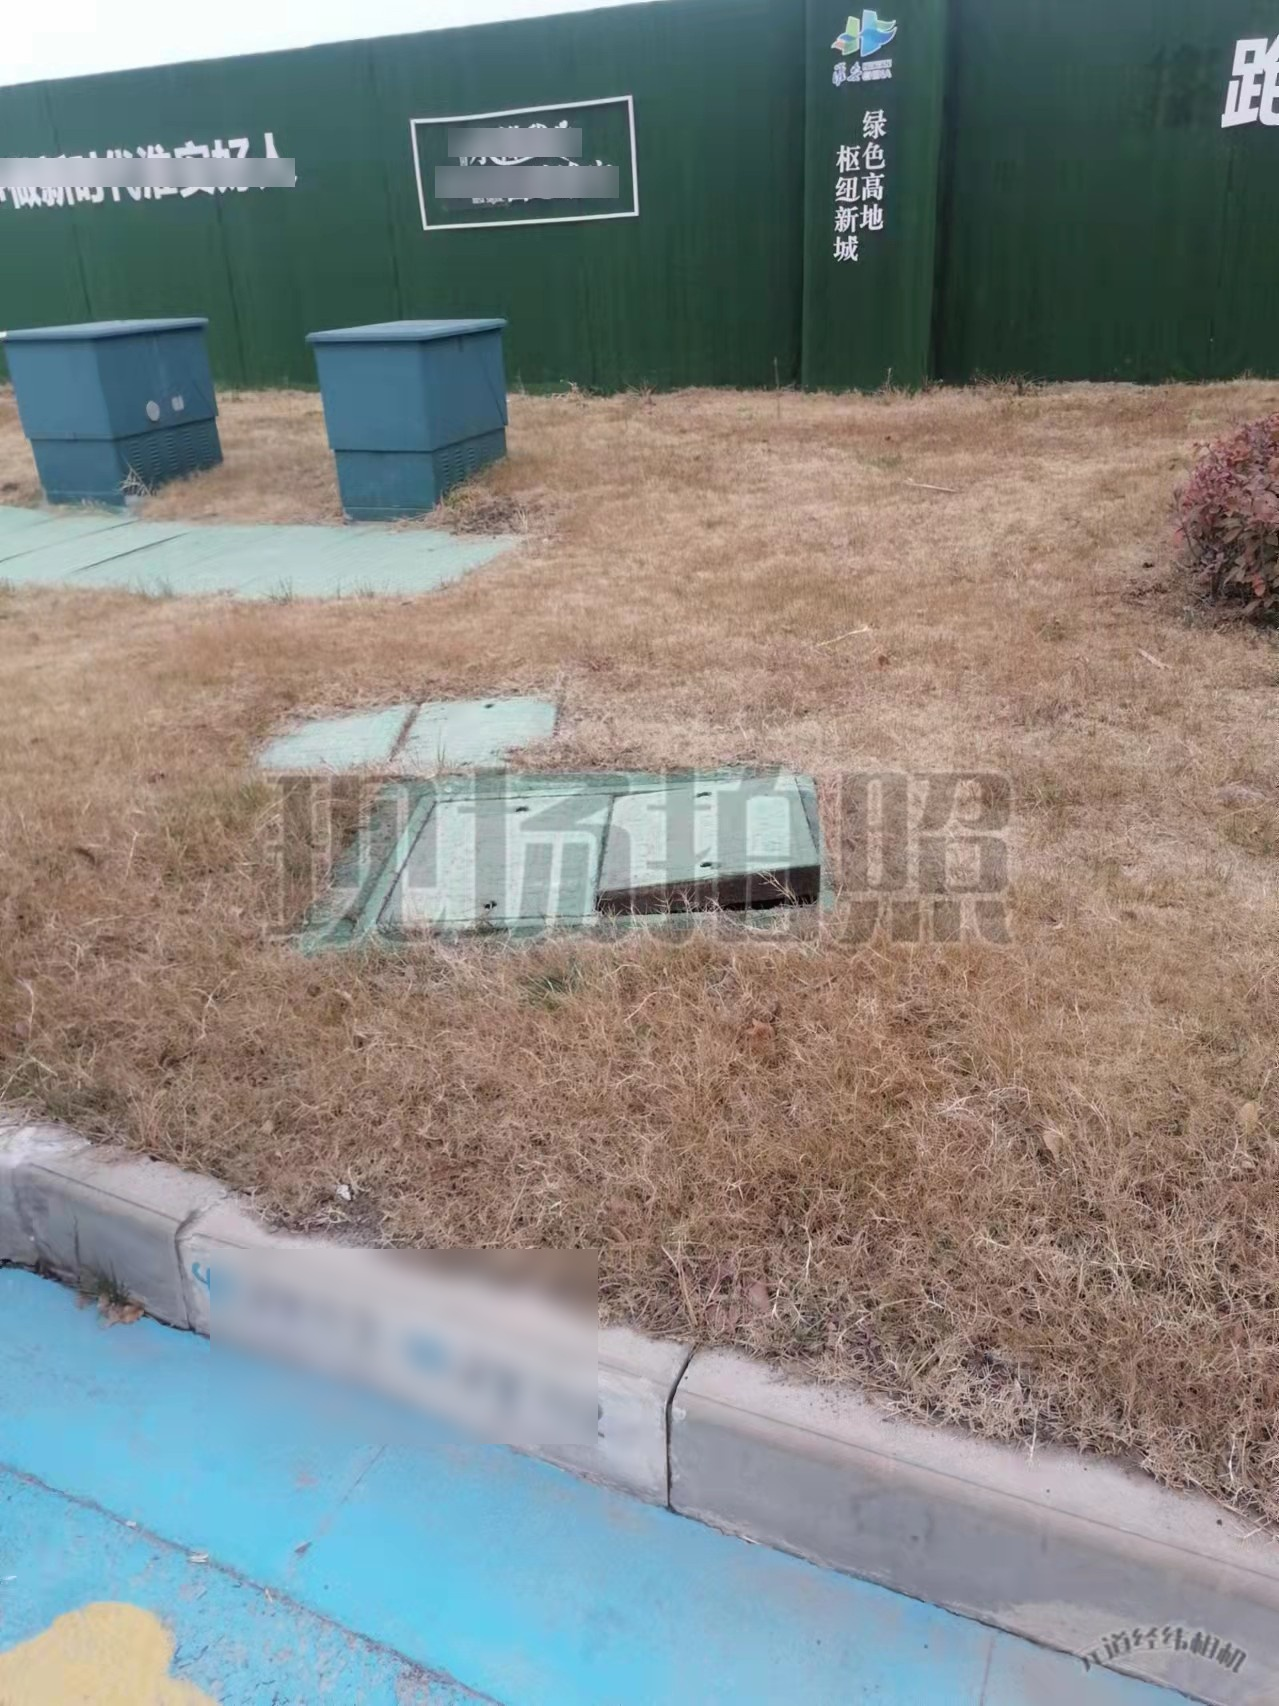uncovered: (364, 763, 834, 935)
